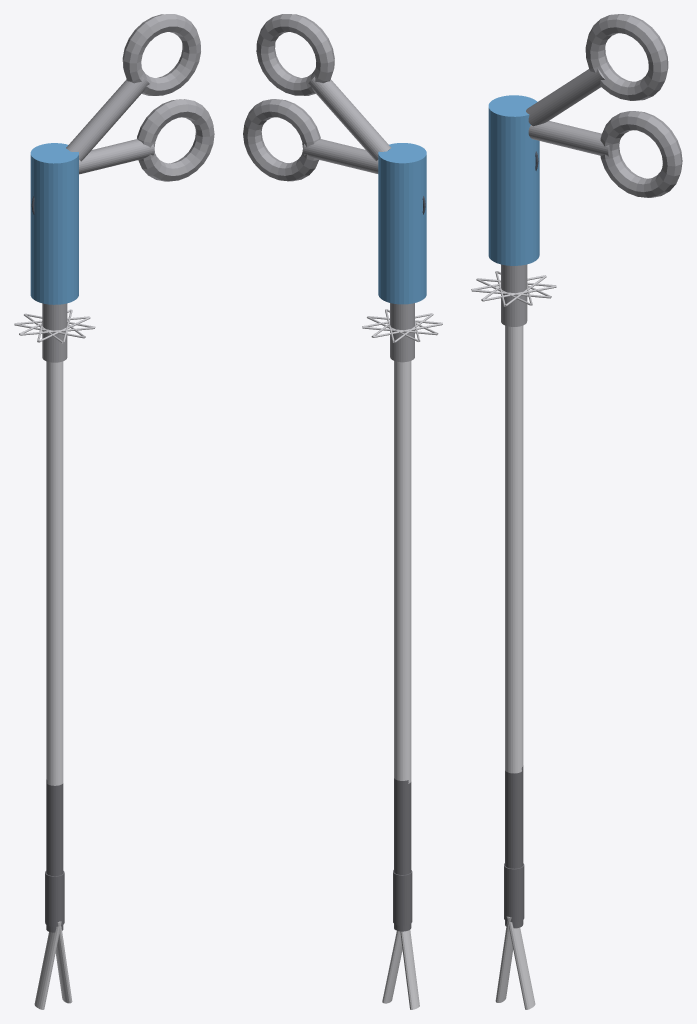
The model's file is Retracción.fbx.
The picture shows the model from 3 angles, left to right: view 1: azimuth 30°, elevation 25°; view 2: azimuth 150°, elevation 25°; view 3: azimuth 330°, elevation 25°; orthographic projection. The views are drawn at different scales.
Visible parts, largest first — view 1: Mango_Housing, Clipper_Shaft, Mango_FingerRing.001, Mango_FingerRing, Mango_FingerStem.001, Tip_Shaft, Mango_FingerStem, Rotator, Jaw_Base, Retract_0, Retract_1; view 2: Mango_Housing, Clipper_Shaft, Mango_FingerRing.001, Mango_FingerRing, Mango_FingerStem.001, Tip_Shaft, Mango_FingerStem, Rotator, Jaw_Base, Retract_0, Retract_1; view 3: Clipper_Shaft, Mango_Housing, Mango_FingerRing.001, Mango_FingerRing, Tip_Shaft, Mango_FingerStem.001, Mango_FingerStem, Rotator, Jaw_Base, Retract_1, Retract_0.
Part boxes in pixels (x1,y1,x2,y2): Mango_Housing: (30, 143, 78, 304); Clipper_Shaft: (46, 361, 63, 785); Mango_FingerRing.001: (122, 14, 200, 95); Mango_FingerRing: (137, 99, 214, 181); Mango_FingerStem.001: (66, 77, 149, 161); Tip_Shaft: (46, 779, 63, 932); Mango_FingerStem: (79, 139, 154, 174); Rotator: (42, 303, 67, 362); Jaw_Base: (45, 871, 64, 926); Retract_0: (34, 921, 61, 1009); Retract_1: (55, 922, 72, 1003); Mango_Housing: (378, 143, 426, 304); Clipper_Shaft: (394, 361, 411, 783); Mango_FingerRing.001: (256, 14, 334, 95); Mango_FingerRing: (243, 99, 320, 181); Mango_FingerStem.001: (308, 77, 391, 161); Tip_Shaft: (394, 778, 411, 931); Mango_FingerStem: (303, 139, 378, 173); Rotator: (390, 303, 414, 362); Jaw_Base: (393, 870, 412, 925); Retract_0: (400, 930, 419, 1009); Retract_1: (382, 931, 402, 1003); Clipper_Shaft: (505, 325, 523, 773); Mango_Housing: (488, 95, 539, 265); Mango_FingerRing.001: (585, 14, 668, 100); Mango_FingerRing: (600, 111, 682, 197); Tip_Shaft: (505, 765, 523, 928); Mango_FingerStem.001: (526, 65, 612, 126); Mango_FingerStem: (528, 121, 609, 156); Rotator: (501, 264, 527, 326); Jaw_Base: (504, 863, 524, 922); Retract_1: (507, 916, 535, 1009); Retract_0: (495, 916, 513, 1002).
Size of the model in its own units: 6.46 by 30.7 by 2.25.
